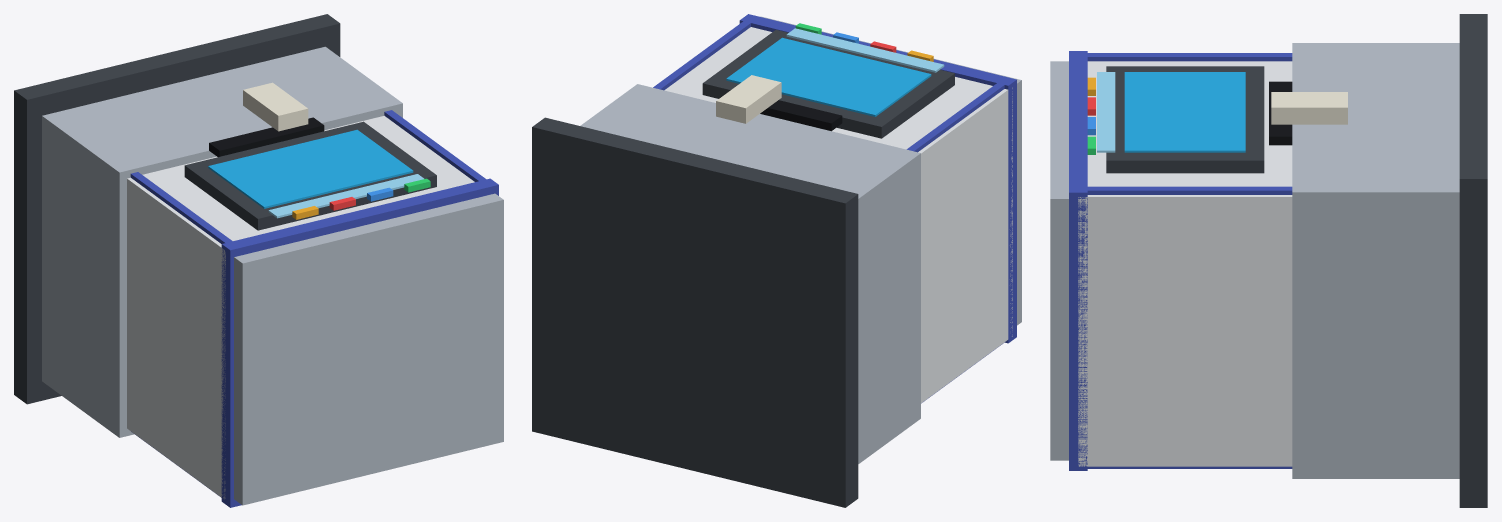
The model's file is endorsement_machine.obj.
The picture shows the model from 3 angles, left to right: view 1: azimuth 30°, elevation 25°; view 2: azimuth 150°, elevation 25°; view 3: azimuth 270°, elevation 25°; orthographic projection. The views are drawn at different scales.
Visible parts, largest first — view 1: DEV_15_endorsement_machine_body2, DEV_01_endorsement_machine_body2, DEV_02_endorsement_machine_body, DEV_00_endorsement_machine_trim, DEV_04_endorsement_machine_screen, DEV_08_endorsement_machine_accent, DEV_03_endorsement_machine_trim, DEV_06_endorsement_machine_paper, DEV_05_endorsement_machine_slot, DEV_07_endorsement_machine_screen2, DEV_10_endorsement_machine_accent, DEV_09_endorsement_machine_accent; view 2: DEV_00_endorsement_machine_trim, DEV_01_endorsement_machine_body2, DEV_02_endorsement_machine_body, DEV_04_endorsement_machine_screen, DEV_03_endorsement_machine_trim, DEV_08_endorsement_machine_accent, DEV_06_endorsement_machine_paper, DEV_07_endorsement_machine_screen2, DEV_15_endorsement_machine_body2, DEV_05_endorsement_machine_slot, DEV_10_endorsement_machine_accent, DEV_09_endorsement_machine_accent; view 3: DEV_01_endorsement_machine_body2, DEV_02_endorsement_machine_body, DEV_00_endorsement_machine_trim, DEV_04_endorsement_machine_screen, DEV_15_endorsement_machine_body2, DEV_08_endorsement_machine_accent, DEV_03_endorsement_machine_trim, DEV_06_endorsement_machine_paper, DEV_09_endorsement_machine_accent, DEV_10_endorsement_machine_accent, DEV_07_endorsement_machine_screen2, DEV_05_endorsement_machine_slot.
Boxes of the visible parts, box(x1,y1,x2,y2) form: DEV_15_endorsement_machine_body2: box(234, 193, 503, 505); DEV_01_endorsement_machine_body2: box(42, 46, 402, 437); DEV_02_endorsement_machine_body: box(127, 115, 474, 499); DEV_00_endorsement_machine_trim: box(14, 14, 340, 404); DEV_04_endorsement_machine_screen: box(208, 129, 413, 208); DEV_08_endorsement_machine_accent: box(221, 178, 498, 507); DEV_03_endorsement_machine_trim: box(184, 121, 436, 230); DEV_06_endorsement_machine_paper: box(243, 82, 308, 131); DEV_05_endorsement_machine_slot: box(209, 117, 324, 156); DEV_07_endorsement_machine_screen2: box(268, 174, 424, 218); DEV_10_endorsement_machine_accent: box(130, 172, 232, 497); DEV_09_endorsement_machine_accent: box(384, 110, 486, 181); DEV_00_endorsement_machine_trim: box(532, 117, 858, 507); DEV_01_endorsement_machine_body2: box(580, 84, 920, 463); DEV_02_endorsement_machine_body: box(664, 27, 1012, 403); DEV_04_endorsement_machine_screen: box(726, 37, 931, 116); DEV_03_endorsement_machine_trim: box(702, 30, 954, 138); DEV_08_endorsement_machine_accent: box(739, 14, 1016, 343); DEV_06_endorsement_machine_paper: box(716, 75, 781, 123); DEV_07_endorsement_machine_screen2: box(786, 28, 944, 72); DEV_15_endorsement_machine_body2: box(760, 16, 1021, 325); DEV_05_endorsement_machine_slot: box(760, 100, 842, 131); DEV_10_endorsement_machine_accent: box(906, 83, 1004, 403); DEV_09_endorsement_machine_accent: box(653, 21, 750, 90); DEV_01_endorsement_machine_body2: box(1292, 43, 1459, 478); DEV_02_endorsement_machine_body: box(1078, 61, 1292, 466); DEV_00_endorsement_machine_trim: box(1459, 14, 1487, 507); DEV_04_endorsement_machine_screen: box(1124, 72, 1245, 152); DEV_15_endorsement_machine_body2: box(1050, 61, 1068, 460); DEV_08_endorsement_machine_accent: box(1069, 51, 1087, 470); DEV_03_endorsement_machine_trim: box(1106, 66, 1264, 173); DEV_06_endorsement_machine_paper: box(1271, 92, 1347, 124); DEV_09_endorsement_machine_accent: box(1087, 186, 1292, 468); DEV_10_endorsement_machine_accent: box(1087, 53, 1292, 61); DEV_07_endorsement_machine_screen2: box(1097, 72, 1115, 152); DEV_05_endorsement_machine_slot: box(1269, 81, 1292, 145).
Bounding box in the file's own units: 0.84 × 0.8 × 0.94.
